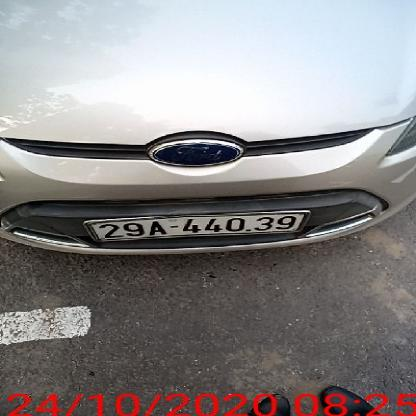biensoxe: (79, 208, 304, 247)
